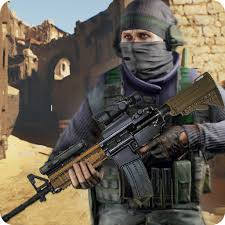gun: (1, 69, 223, 221)
